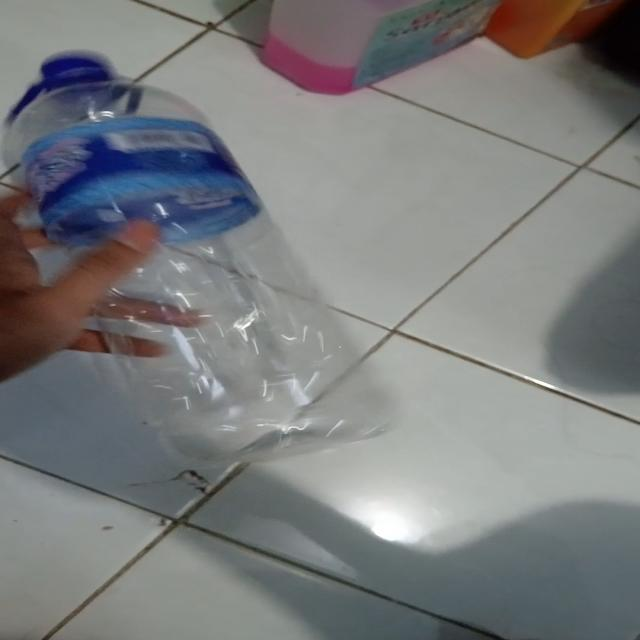Botol bekas: (4, 48, 402, 466)
